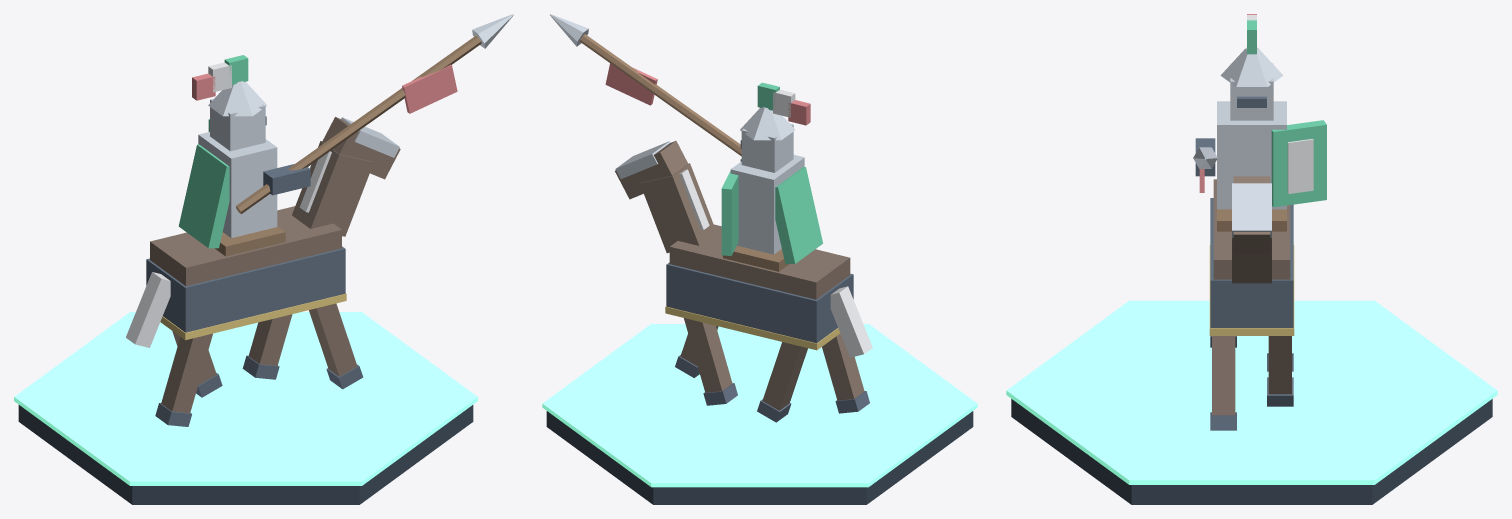
Rendered from paladino.glb.
3 renders of one model, left to right at view 1: azimuth 30°, elevation 25°; view 2: azimuth 150°, elevation 25°; view 3: azimuth 270°, elevation 25°, orthographic. The views are drawn at different scales.
Visible parts, largest first — view 1: BaseRing, Bardo, BaseHex, Cavallo_Torso, Cav_Torso, Cav_Mantello, Collo_Mesh, Lancia_Asta, Zampa_PostDX_Mesh, Zampa_AntDX_Mesh, Coda_Mesh, Cav_Testa (+12 smaller); view 2: BaseRing, Bardo, BaseHex, Cavallo_Torso, Cav_Torso, Collo_Mesh, Cav_Mantello, Zampa_AntSX_Mesh, Lancia_Asta, Zampa_PostSX_Mesh, Coda_Mesh, Zampa_PostDX_Mesh (+12 smaller); view 3: BaseRing, BaseHex, Bardo, Cav_Torso, Cav_Scudo, Cavallo_Torso, Frontale_Acciaio, Zampa_AntDX_Mesh, Cav_Elmo, Cav_ScudoCroce, Zampa_AntSX_Mesh, Collo_Mesh (+4 smaller).
Boxes of the visible parts, bbox=[...] form: BaseRing: bbox=[14, 312, 477, 485]; Bardo: bbox=[146, 246, 345, 332]; BaseHex: bbox=[18, 405, 473, 504]; Cavallo_Torso: bbox=[150, 206, 341, 286]; Cav_Torso: bbox=[198, 132, 277, 238]; Cav_Mantello: bbox=[178, 144, 229, 248]; Collo_Mesh: bbox=[292, 141, 373, 236]; Lancia_Asta: bbox=[236, 35, 481, 213]; Zampa_PostDX_Mesh: bbox=[161, 333, 212, 413]; Zampa_AntDX_Mesh: bbox=[309, 303, 357, 376]; Coda_Mesh: bbox=[126, 272, 170, 347]; Cav_Testa: bbox=[210, 98, 265, 151]; BaseRing: bbox=[542, 324, 977, 487]; Bardo: bbox=[666, 262, 853, 343]; BaseHex: bbox=[546, 411, 973, 504]; Cavallo_Torso: bbox=[669, 224, 850, 299]; Cav_Torso: bbox=[730, 155, 804, 254]; Collo_Mesh: bbox=[640, 163, 716, 253]; Cav_Mantello: bbox=[775, 167, 822, 264]; Zampa_AntSX_Mesh: bbox=[684, 318, 732, 392]; Lancia_Asta: bbox=[580, 34, 741, 156]; Zampa_PostSX_Mesh: bbox=[762, 342, 807, 410]; Coda_Mesh: bbox=[830, 286, 872, 357]; Zampa_PostDX_Mesh: bbox=[822, 333, 864, 400]; BaseRing: bbox=[1006, 300, 1497, 484]; BaseHex: bbox=[1011, 399, 1492, 504]; Bardo: bbox=[1210, 198, 1293, 327]; Cav_Torso: bbox=[1217, 101, 1286, 209]; Cav_Scudo: bbox=[1271, 120, 1326, 207]; Cavallo_Torso: bbox=[1213, 179, 1290, 279]; Frontale_Acciaio: bbox=[1232, 183, 1271, 237]; Zampa_AntDX_Mesh: bbox=[1212, 336, 1235, 415]; Cav_Elmo: bbox=[1220, 47, 1283, 86]; Cav_ScudoCroce: bbox=[1287, 139, 1313, 193]; Zampa_AntSX_Mesh: bbox=[1268, 336, 1291, 394]; Collo_Mesh: bbox=[1232, 238, 1271, 283].
Size of the model in its own units: 3.09 by 2.57 by 2.96.
